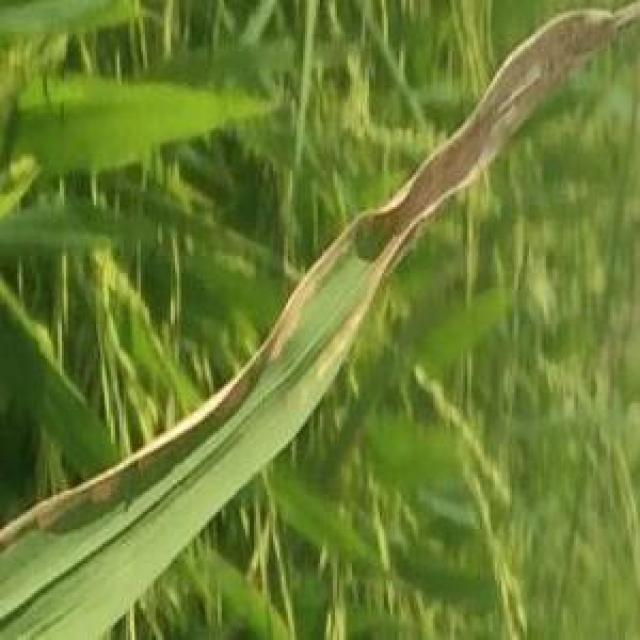Bacterial_Blight: (378, 0, 640, 292)
